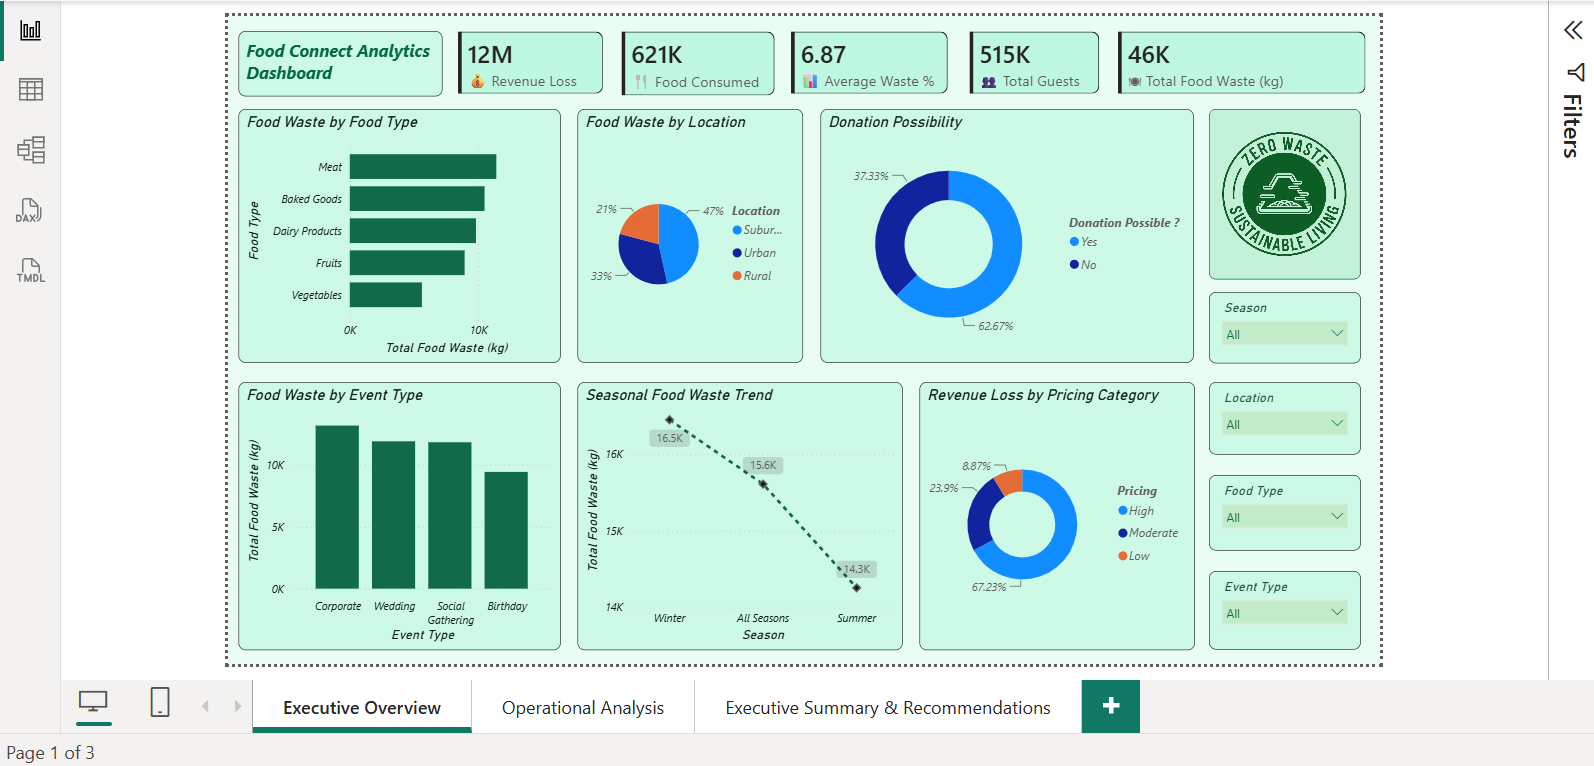

The dashboard page shown, as its layout file describes it:
{"tool":"powerbi","page":{"name":"Executive Overview","canvas":[1280,720],"ordinal":0},"visuals":[{"type":"cardVisual","fields":{"Data":["public food_waste.Total Food Waste"]},"box":[971.5,0,309.3,103.6],"z":0},{"type":"cardVisual","fields":{"Data":["public food_waste.Total Revenue Loss"]},"box":[237.8,0,195.9,103.6],"z":1000},{"type":"cardVisual","fields":{"Data":["public food_waste.Total Food Consumed"]},"box":[420.7,0,204,105.2],"z":2000},{"type":"cardVisual","fields":{"Data":["public food_waste.Total Guests"]},"box":[806.1,0,178.1,103.6],"z":3000},{"type":"cardVisual","fields":{"Data":["public food_waste.Average Waste %"]},"box":[608.6,0,208.9,103.6],"z":4000},{"type":"clusteredBarChart","title":"Food Waste by Food Type","fields":{"Category":["public food_waste.food_type"],"Y":["Sum(public food_waste.food_wastage_amount)"]},"box":[11.3,103.6,357.8,281.7],"z":5000},{"type":"clusteredColumnChart","title":"Food Waste by Event Type","fields":{"Category":["public food_waste.event_type"],"Y":["Sum(public food_waste.food_wastage_amount)"]},"box":[11.3,406.4,357.8,297.9],"z":6000},{"type":"donutChart","title":"Revenue Loss by Pricing Category","fields":{"Category":["public food_waste.pricing"],"Y":["Sum(public food_waste.revenue_loss)"]},"box":[767.5,406.4,306,297.9],"z":7000},{"type":"lineChart","title":"Seasonal Food Waste Trend","fields":{"Category":["public food_waste.season"],"Y":["Sum(public food_waste.food_wastage_amount)"]},"box":[388.6,406.4,361.1,297.9],"z":8000},{"type":"pieChart","title":"Food Waste by Location","fields":{"Category":["public food_waste.location"],"Y":["Sum(public food_waste.food_wastage_amount)"]},"box":[388.6,103.6,251,281.7],"z":9000},{"type":"donutChart","title":"Donation Possibility","fields":{"Category":["public food_waste.donation_possible"],"Y":["CountNonNull(public food_waste.food_type)"]},"box":[659,103.6,414.5,281.7],"z":10000},{"type":"slicer","fields":{"Values":["public food_waste.event_type"]},"box":[1089.7,616.9,168.4,87.4],"z":11000},{"type":"slicer","fields":{"Values":["public food_waste.food_type"]},"box":[1089.7,510.1,168.4,84.2],"z":12000},{"type":"slicer","fields":{"Values":["public food_waste.location"]},"box":[1089.7,406.4,168.4,81],"z":13000},{"type":"slicer","fields":{"Values":["public food_waste.season"]},"box":[1089.7,306,168.4,79.3],"z":14000},{"type":"textbox","box":[11.3,16.2,226.7,72.9],"z":15000},{"type":"image","box":[1089.7,103.6,168.4,189.4],"z":16000}]}

Visuals, with their boxes on the page's 1280x720 design canvas (x1, y1, x2, y2). These are canvas units, not pixel positions in the 1594x766 screenshot, which may show the page scaled, cropped or inside an application window:
cardVisual - public food_waste.Total Food Waste: left=972, top=0, right=1281, bottom=104
cardVisual - public food_waste.Total Revenue Loss: left=238, top=0, right=434, bottom=104
cardVisual - public food_waste.Total Food Consumed: left=421, top=0, right=625, bottom=105
cardVisual - public food_waste.Total Guests: left=806, top=0, right=984, bottom=104
cardVisual - public food_waste.Average Waste %: left=609, top=0, right=818, bottom=104
"Food Waste by Food Type" clusteredBarChart: left=11, top=104, right=369, bottom=385
"Food Waste by Event Type" clusteredColumnChart: left=11, top=406, right=369, bottom=704
"Revenue Loss by Pricing Category" donutChart: left=768, top=406, right=1074, bottom=704
"Seasonal Food Waste Trend" lineChart: left=389, top=406, right=750, bottom=704
"Food Waste by Location" pieChart: left=389, top=104, right=640, bottom=385
"Donation Possibility" donutChart: left=659, top=104, right=1074, bottom=385
slicer - public food_waste.event_type: left=1090, top=617, right=1258, bottom=704
slicer - public food_waste.food_type: left=1090, top=510, right=1258, bottom=594
slicer - public food_waste.location: left=1090, top=406, right=1258, bottom=487
slicer - public food_waste.season: left=1090, top=306, right=1258, bottom=385
textbox: left=11, top=16, right=238, bottom=89
image: left=1090, top=104, right=1258, bottom=293
